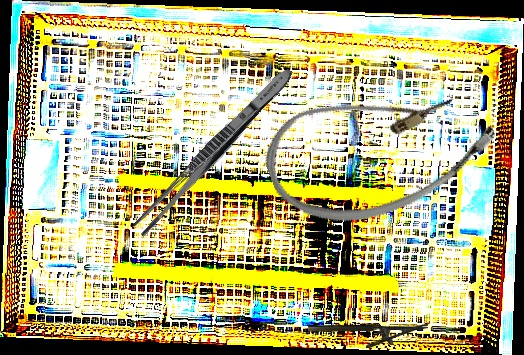Cannula: (252, 49, 508, 248)
Dressing Forceps: (130, 62, 298, 240)
Needle Holder: (308, 324, 428, 348)
